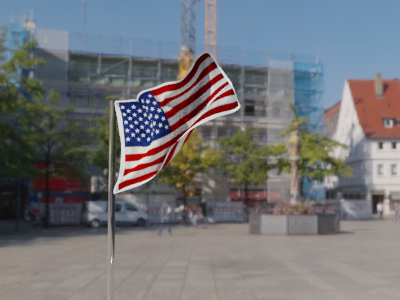America flag: (112, 51, 242, 192)
